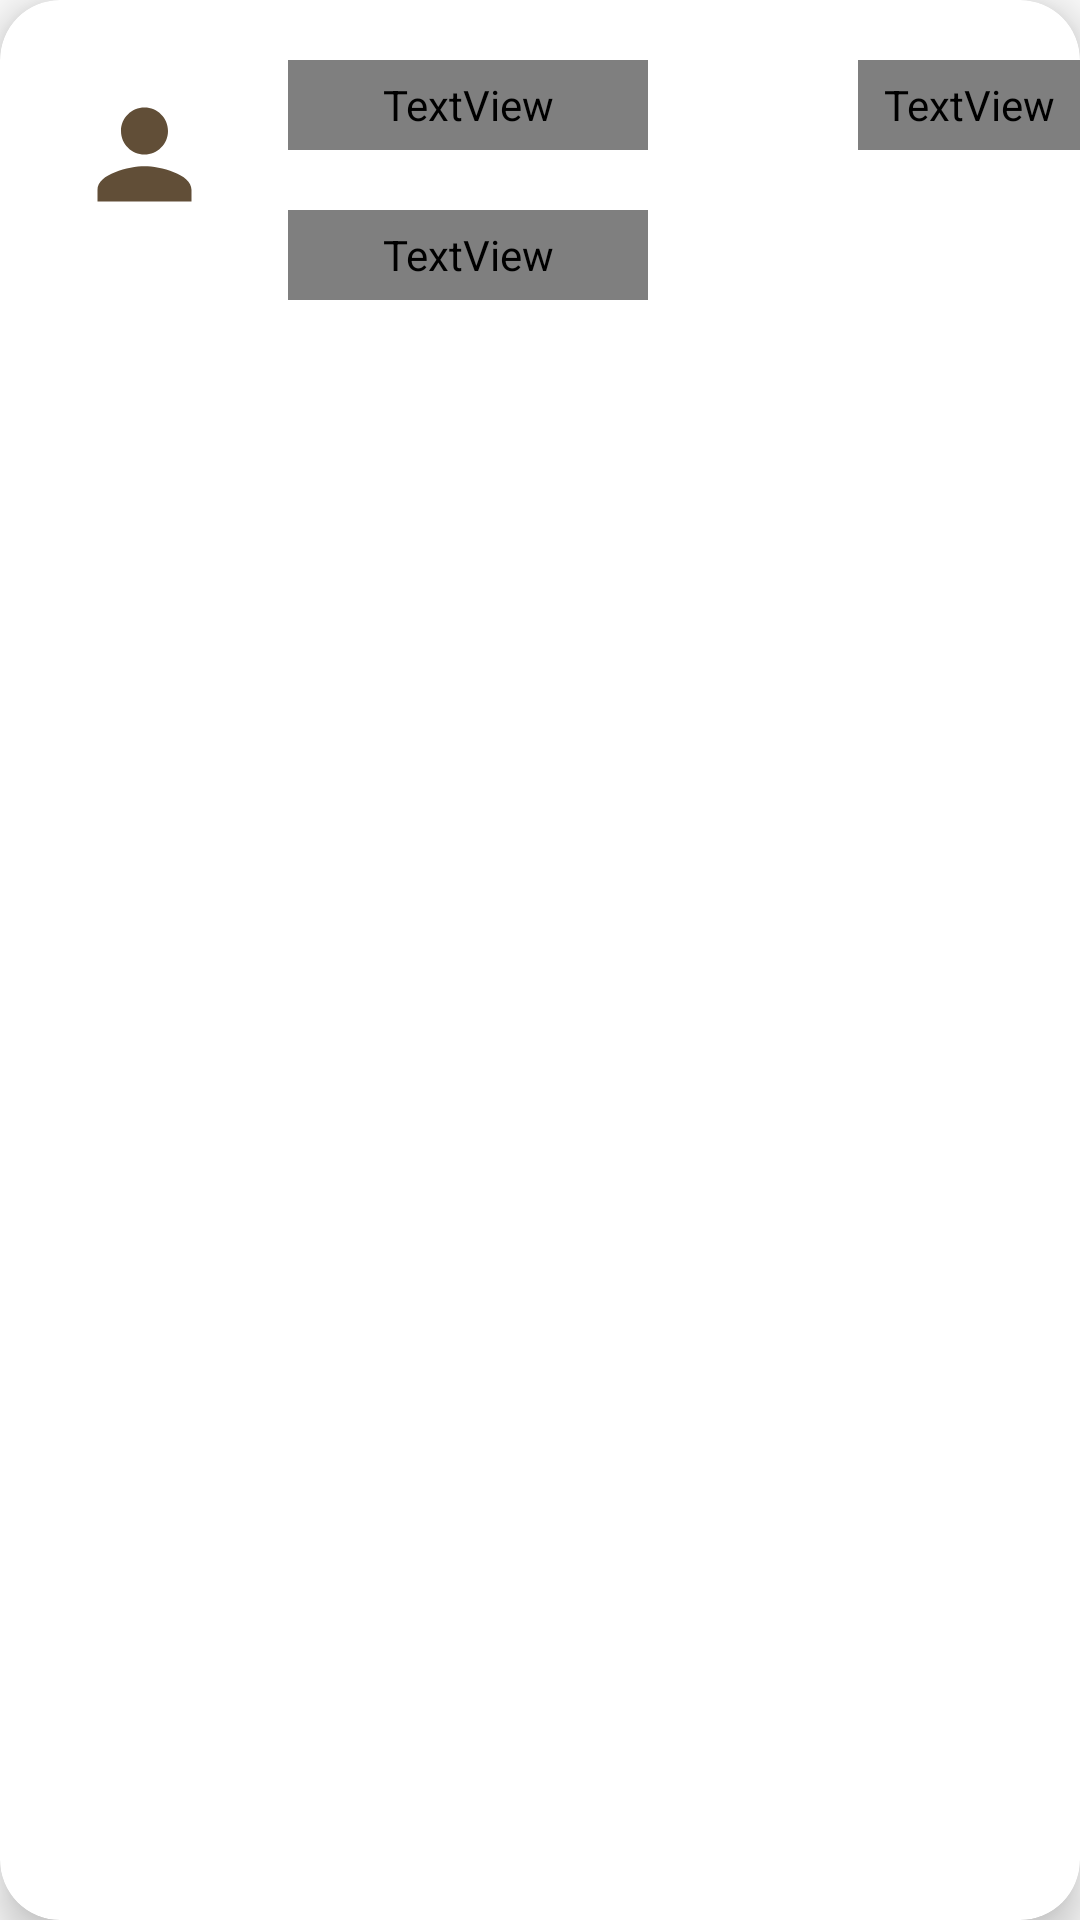

Named icons in this screenshot (1080x1920) and their bounding boxes, (x1, y1, x2, y2):
per: (97, 107, 192, 202)
